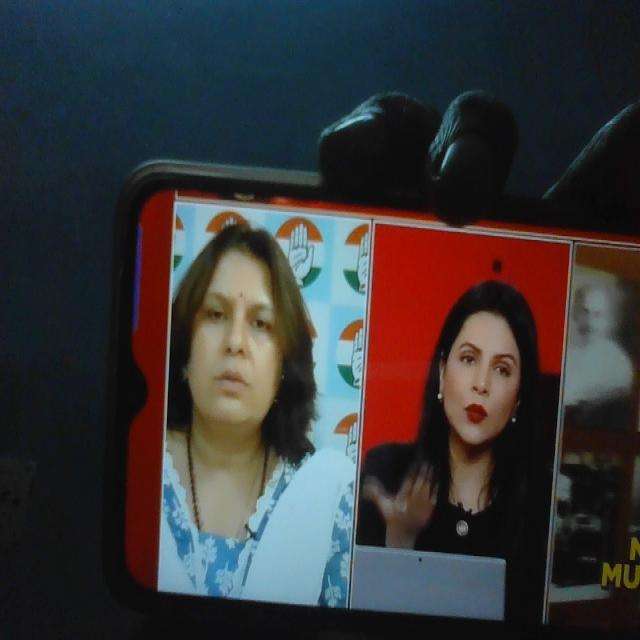fake: (177, 219, 297, 445), (430, 252, 541, 463)
